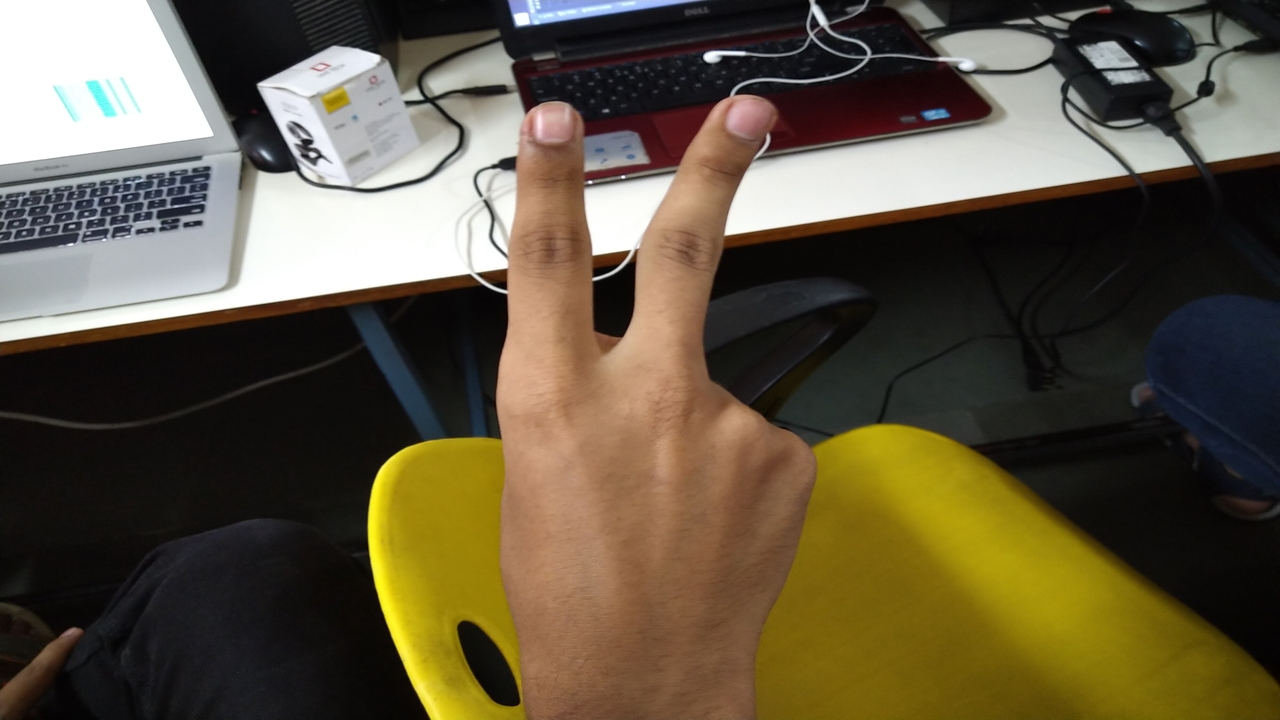fingertip: (706, 80, 782, 150), (518, 94, 584, 160)
